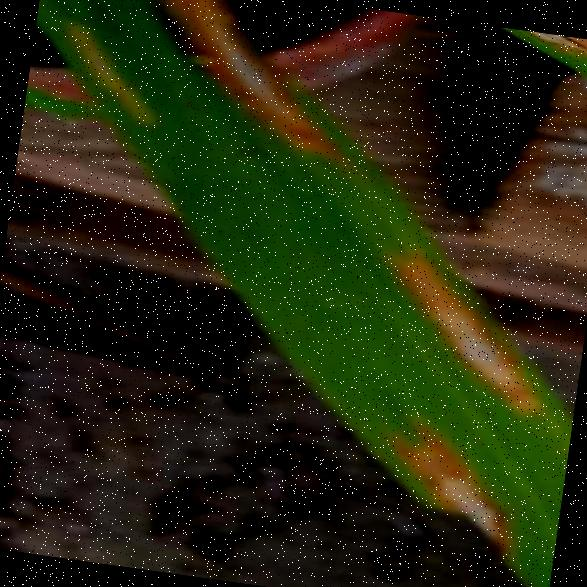Leaf_smut: (304, 360, 532, 555), (366, 220, 558, 422), (150, 0, 339, 154), (37, 0, 169, 139)
